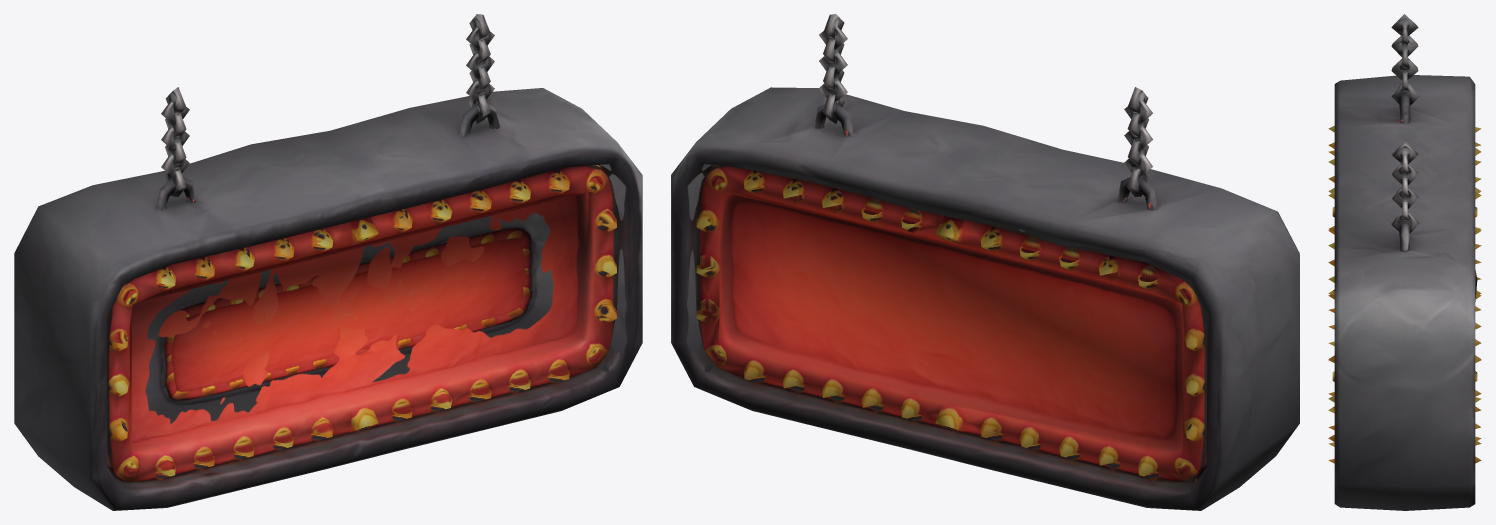
Rendered from tabela.glb.
3 renders of one model, left to right at view 1: azimuth 30°, elevation 25°; view 2: azimuth 150°, elevation 25°; view 3: azimuth 270°, elevation 25°, orthographic. The views are drawn at different scales.
Parts seen in each view (by area): view 1: tripo_node_ac55c143-1ac7-4438-8f41-c5ed2295a37a; view 2: tripo_node_ac55c143-1ac7-4438-8f41-c5ed2295a37a; view 3: tripo_node_ac55c143-1ac7-4438-8f41-c5ed2295a37a.
Part boxes in pixels (x1,y1,x2,y2): tripo_node_ac55c143-1ac7-4438-8f41-c5ed2295a37a: (14,14,642,510); tripo_node_ac55c143-1ac7-4438-8f41-c5ed2295a37a: (671,14,1299,510); tripo_node_ac55c143-1ac7-4438-8f41-c5ed2295a37a: (1328,14,1481,510).
Bounding box in the file's own units: 0.9778 × 0.6448 × 0.2698.
Materials: 1 (1 with a texture image).
